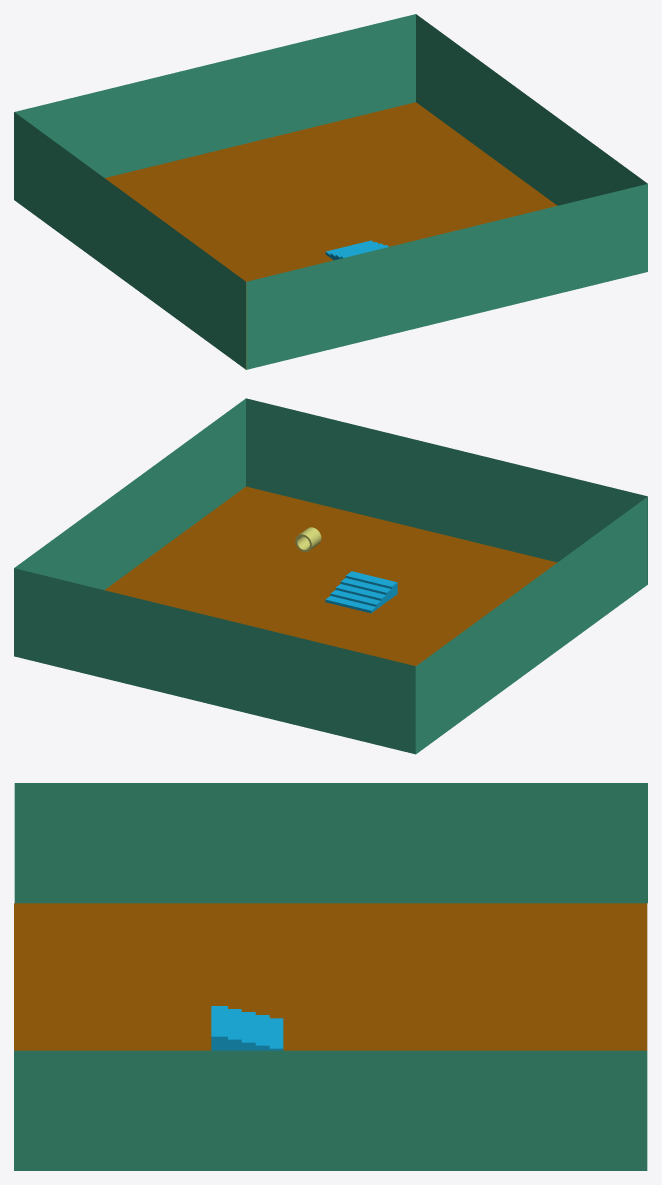
The model's file is self--9rnctXu.glb.
3 views of the same model, one above another, from view 1: azimuth 30°, elevation 25°; view 2: azimuth 150°, elevation 25°; view 3: azimuth 270°, elevation 25° (orthographic). The views are drawn at different scales.
Parts seen in each view (by area): view 1: 平面.001, 平面, 立方体; view 2: 平面.001, 平面, 立方体; view 3: 平面.001, 平面, 立方体.
Boxes of the visible parts, x1,y1,x2,y2 form: 平面.001: [14, 14, 647, 369]; 平面: [105, 102, 557, 369]; 立方体: [325, 240, 388, 260]; 平面.001: [14, 398, 647, 754]; 平面: [104, 486, 557, 665]; 立方体: [325, 571, 397, 613]; 平面.001: [14, 783, 647, 1170]; 平面: [14, 903, 647, 1050]; 立方体: [211, 1006, 283, 1050].
Bounding box in the file's own units: 101 × 21.2 × 101.
